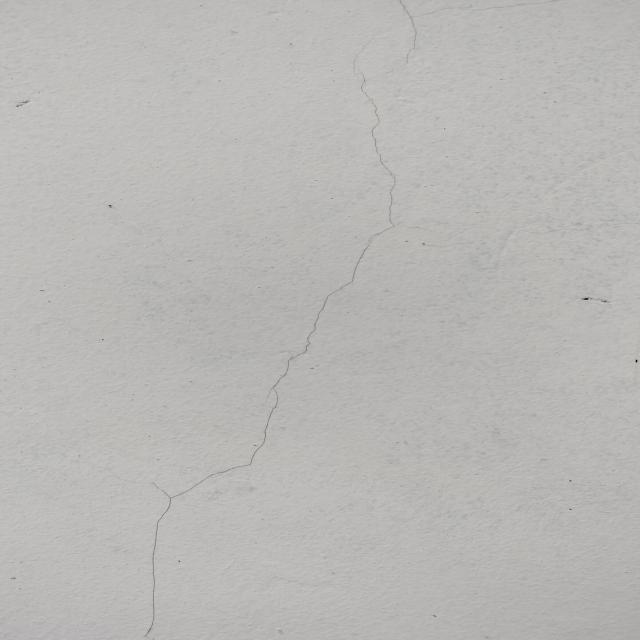Crack: (140, 2, 436, 640)
